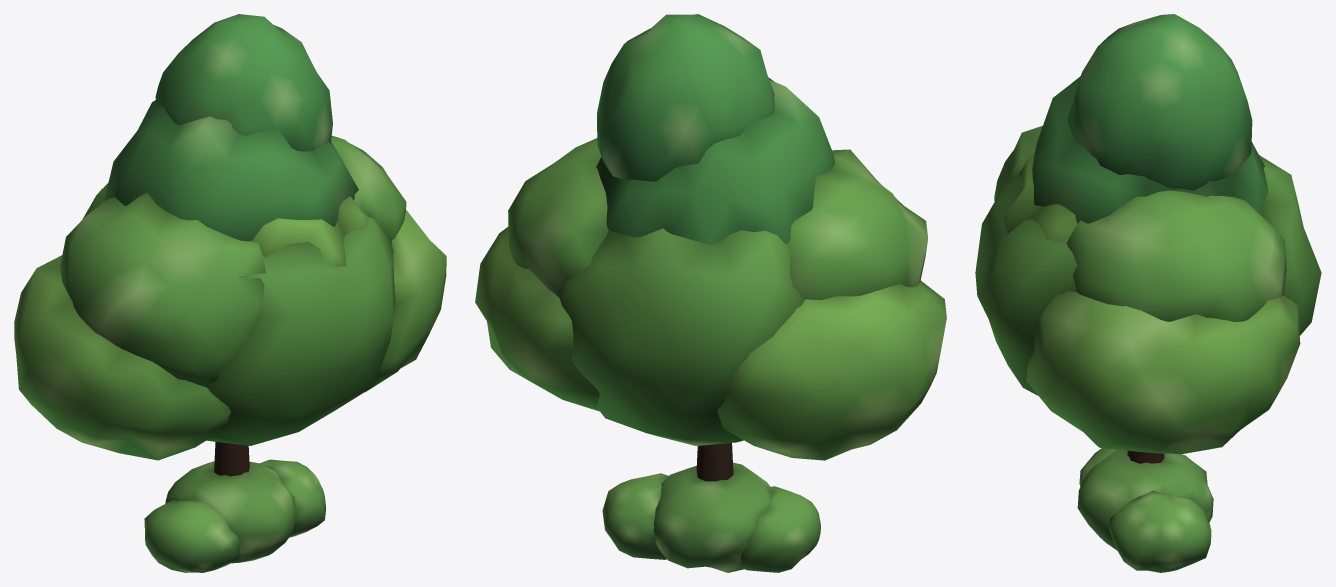
File: arboles-juego.glb
The picture shows the model from 3 angles, left to right: view 1: azimuth 30°, elevation 25°; view 2: azimuth 150°, elevation 25°; view 3: azimuth 270°, elevation 25°; orthographic projection. The views are drawn at different scales.
Parts seen in each view (by area): view 1: Árbol redondo, Árbol alto, Árbol ancho, Arbusto; view 2: Árbol redondo, Árbol alto, Árbol ancho, Arbusto; view 3: Árbol redondo, Árbol ancho, Árbol alto, Arbusto.
Part boxes in pixels (bbox=[...]): Árbol redondo: bbox=[60, 135, 406, 445]; Árbol alto: bbox=[104, 14, 358, 476]; Árbol ancho: bbox=[14, 196, 446, 460]; Arbusto: bbox=[144, 459, 325, 572]; Árbol redondo: bbox=[508, 138, 928, 445]; Árbol alto: bbox=[596, 14, 835, 481]; Árbol ancho: bbox=[475, 226, 946, 460]; Arbusto: bbox=[602, 462, 820, 572]; Árbol redondo: bbox=[975, 125, 1321, 395]; Árbol ancho: bbox=[1004, 153, 1300, 453]; Árbol alto: bbox=[1032, 14, 1267, 463]; Arbusto: bbox=[1077, 448, 1213, 572].
Size of the model in its own units: 6.42 by 7.89 by 4.65.
